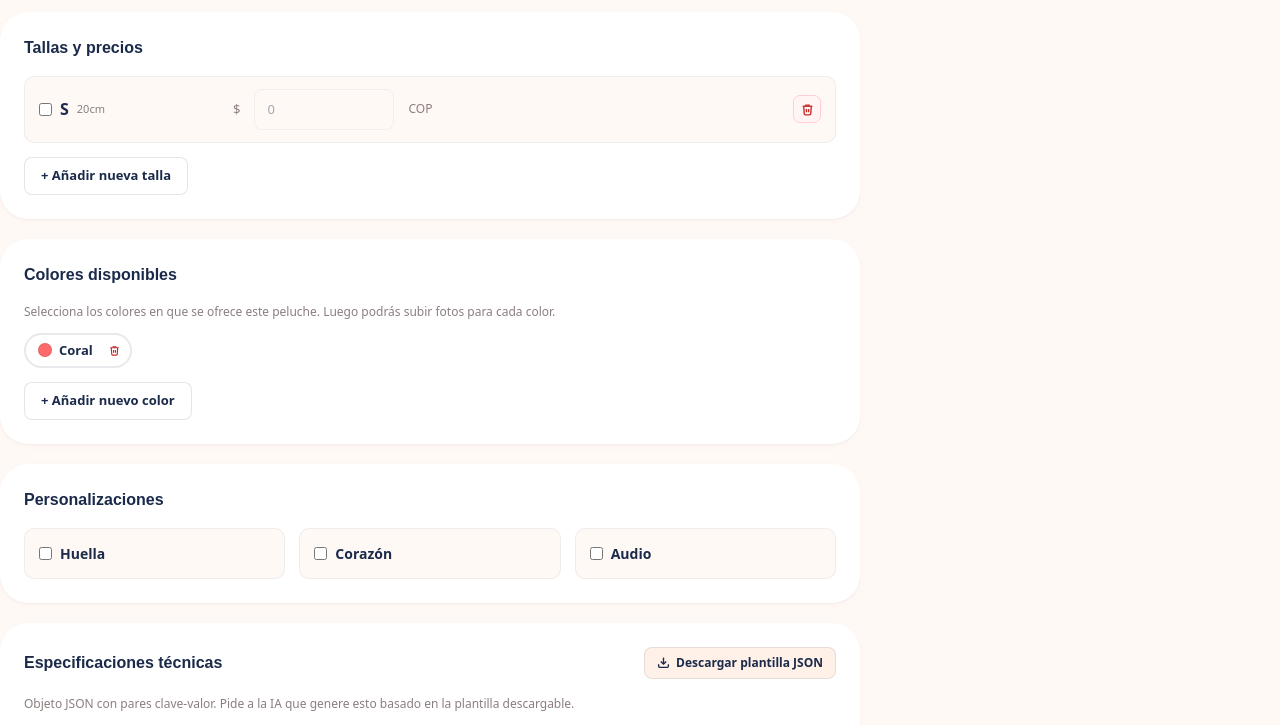
Test: PeluchForm › opens color modal when "Añadir nuevo color" button is clicked
The image size is (1280, 725).
(page scrolled)
Click the button "+ Añadir nuevo color" at coordinates (108, 401), box x1=24 y1=382 x2=192 y2=420
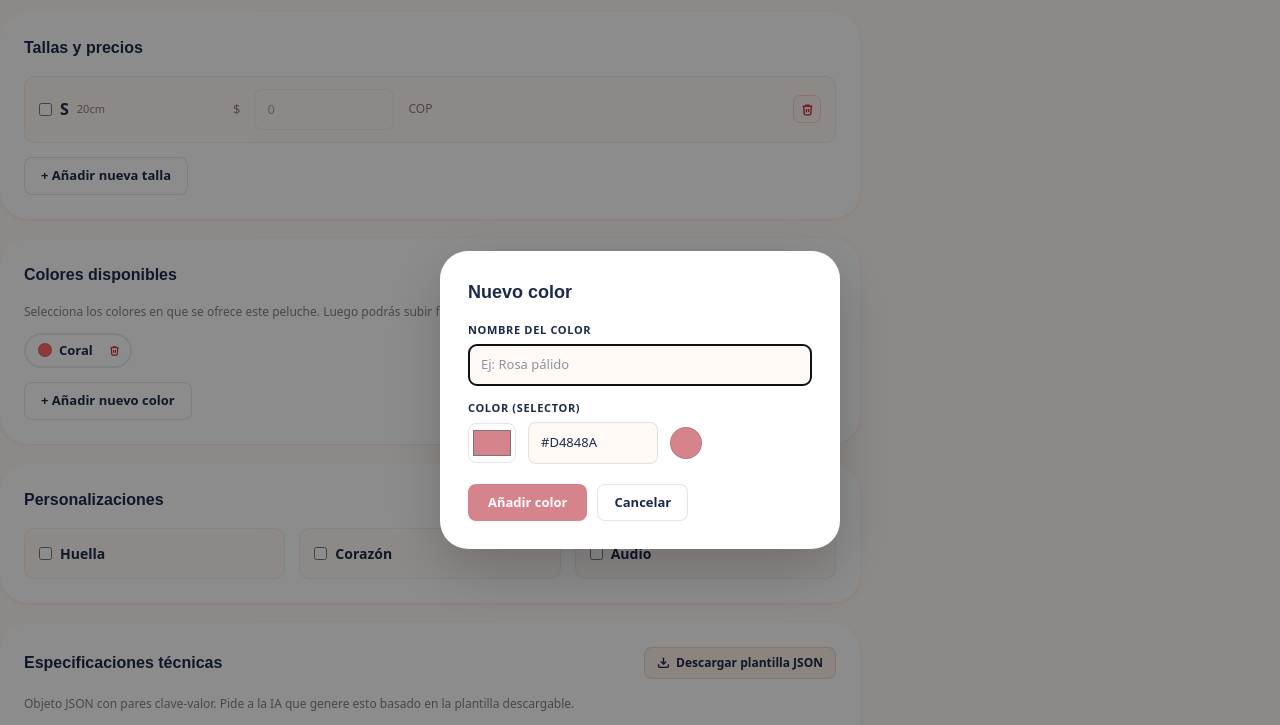
Expected: the heading "Nuevo color" is shown, x1=468 y1=282 x2=572 y2=302
